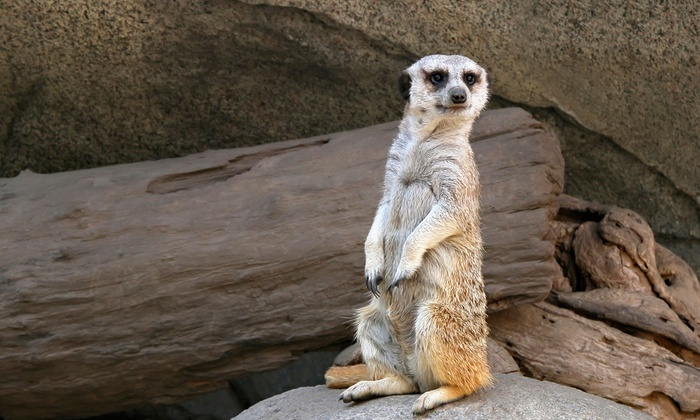meerkat: (321, 48, 519, 420)
